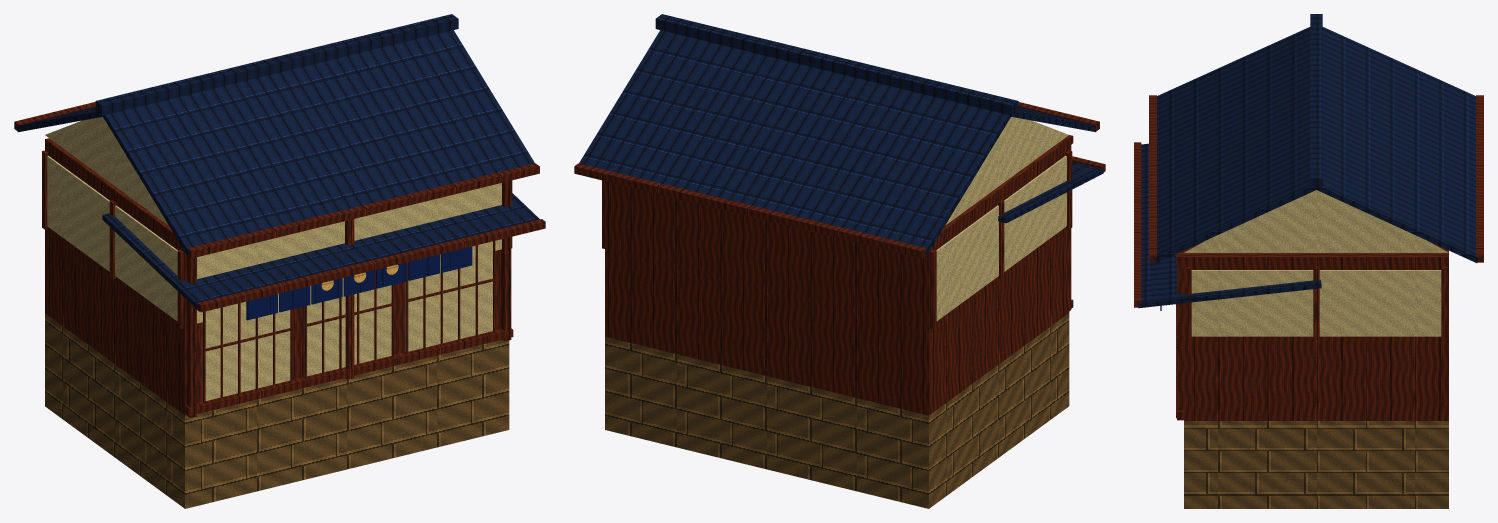
The model's file is noren_shop.glb.
3 views of the same model, side by side, from view 1: azimuth 30°, elevation 25°; view 2: azimuth 150°, elevation 25°; view 3: azimuth 270°, elevation 25° (orthographic). The views are drawn at different scales.
Visible parts, largest first — view 1: Body, Roof; view 2: Body, Roof; view 3: Body, Roof.
Part boxes in pixels (<box>): Body: <box>42,138,545,508</box>; Roof: <box>14,14,539,311</box>; Body: <box>602,135,1105,508</box>; Roof: <box>574,14,1103,258</box>; Body: <box>1134,142,1448,508</box>; Roof: <box>1137,14,1483,308</box>.
Bounding box in the file's own units: 8.8 × 8.45 × 7.92.
6 materials, 6 textured.
